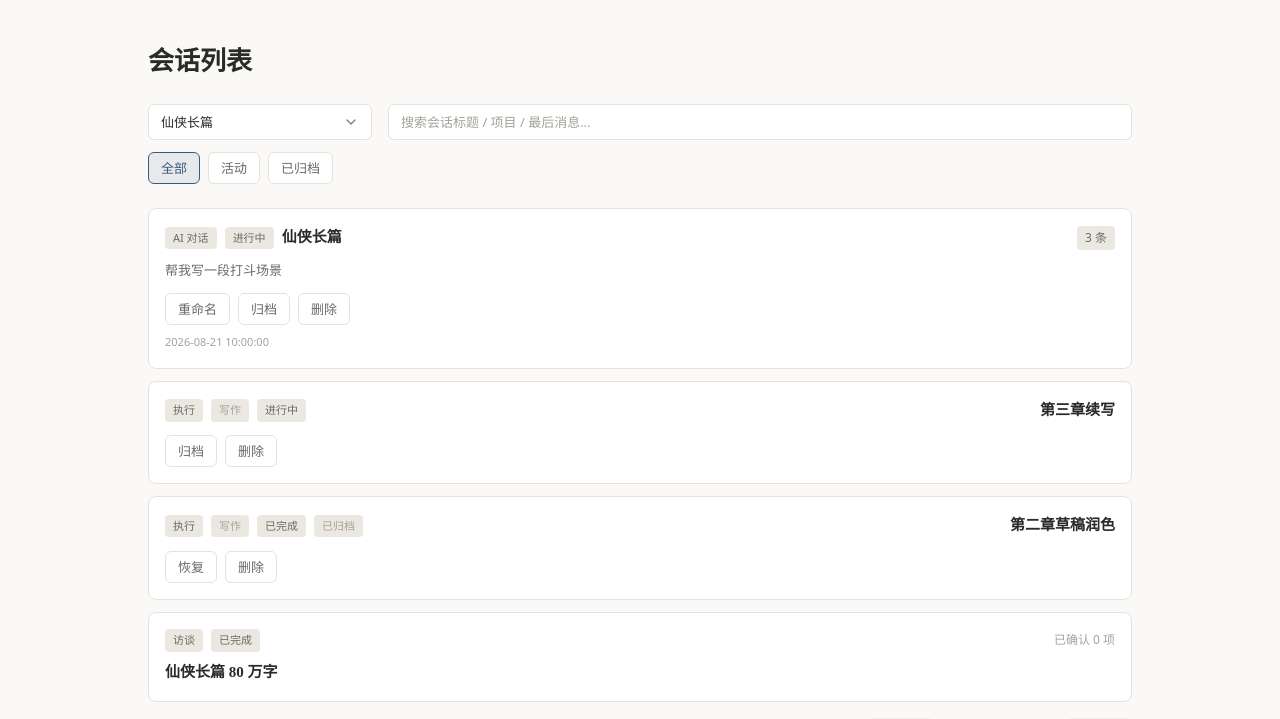
Scenario: 会话页 — 归档 / 恢复 / 删除（执行会话） › 删除：取消二次确认不删；确认后 deleteSession(id) → 行消失
Expected: the button with test id "session-title-ex-active-p1" is shown, [1040,398,1115,423]
Step 1. Click the button with test id "session-delete-ex-active-p1" → (251, 451), box [225,435,277,467]
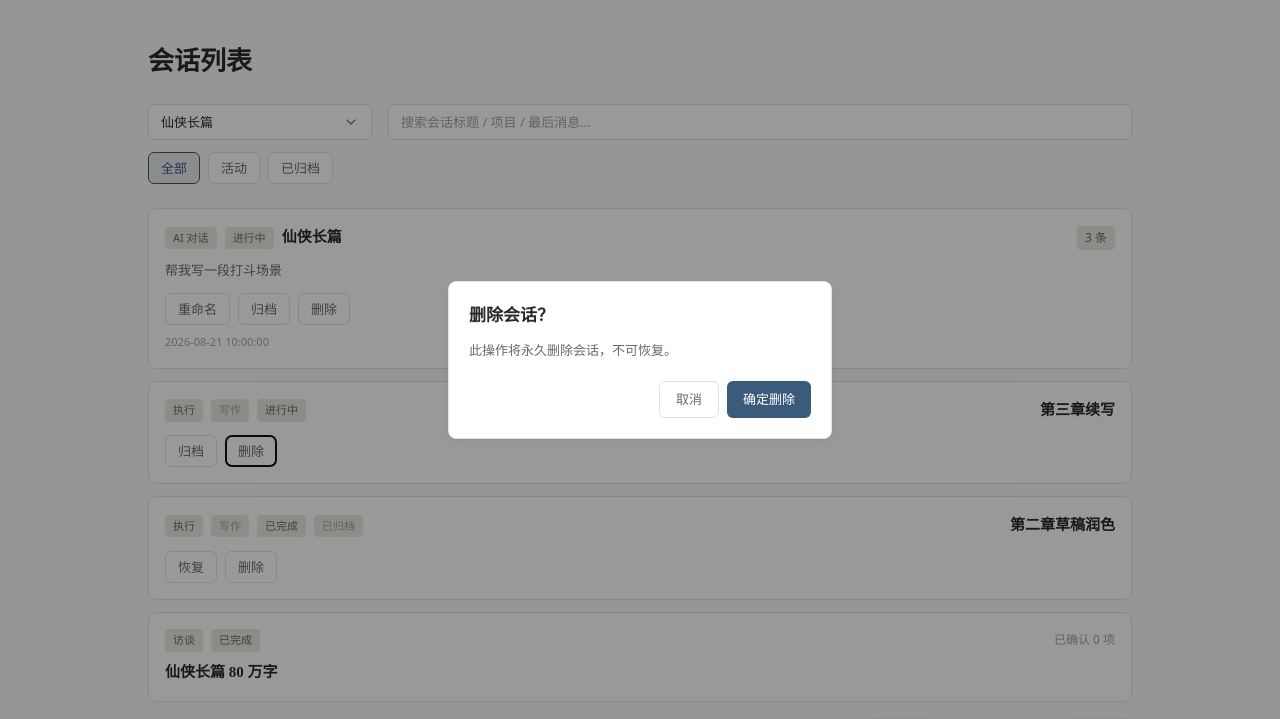
Step 2. Click the button with test id "session-delete-cancel" → (689, 399), box [659,381,719,418]
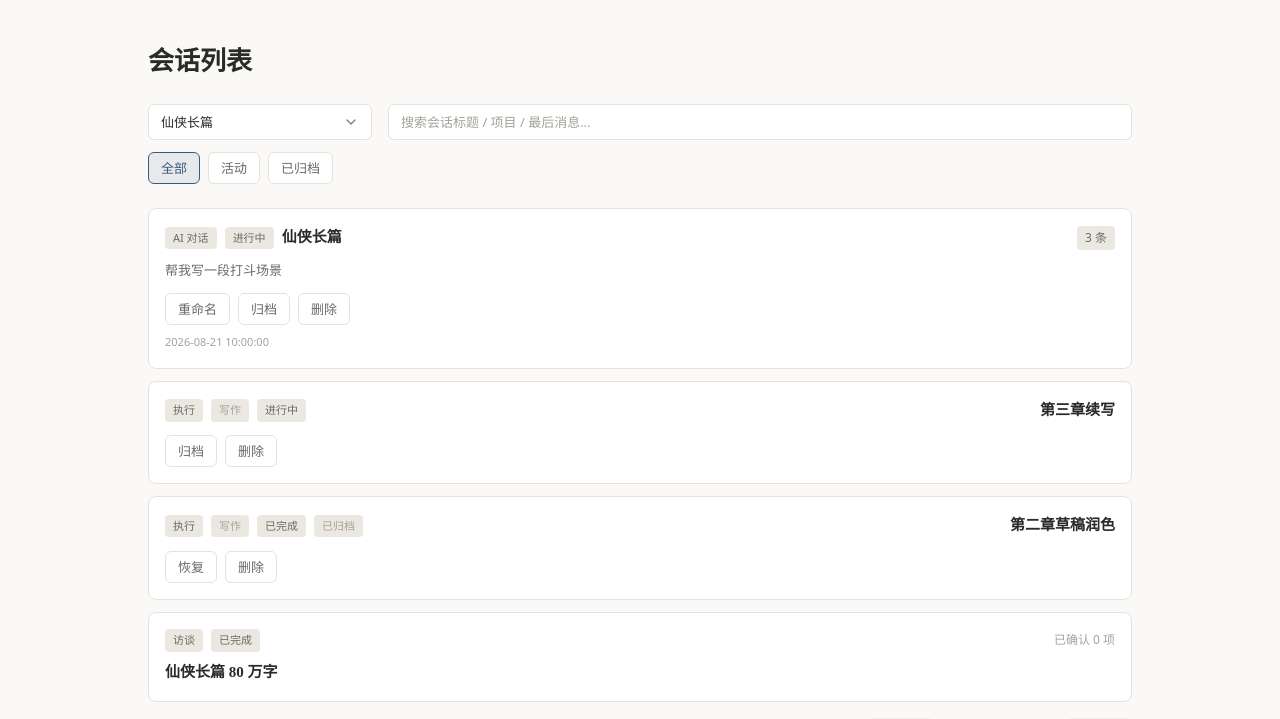
Expected: the button with test id "session-title-ex-active-p1" is shown, [1040,398,1115,423]
Step 3. Click the button with test id "session-delete-ex-active-p1" → (251, 451), box [225,435,277,467]
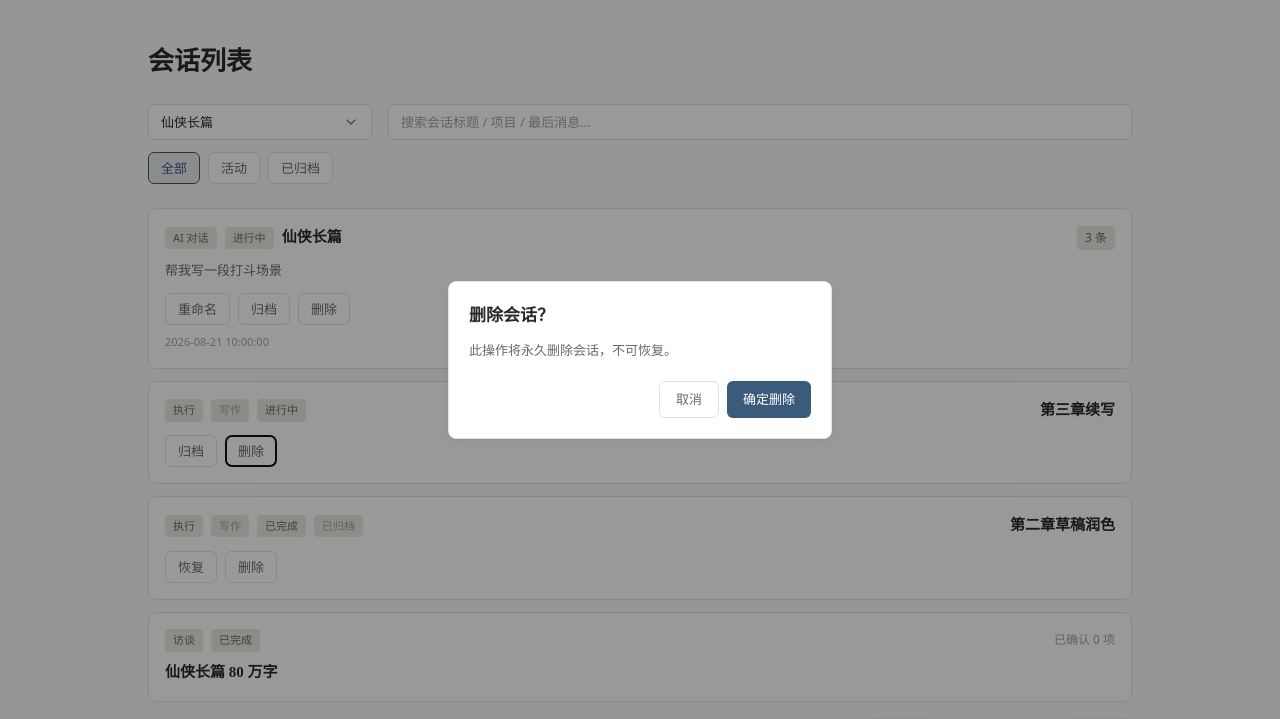
Step 4. Click the button with test id "session-delete-confirm" → (769, 399), box [727,381,811,418]
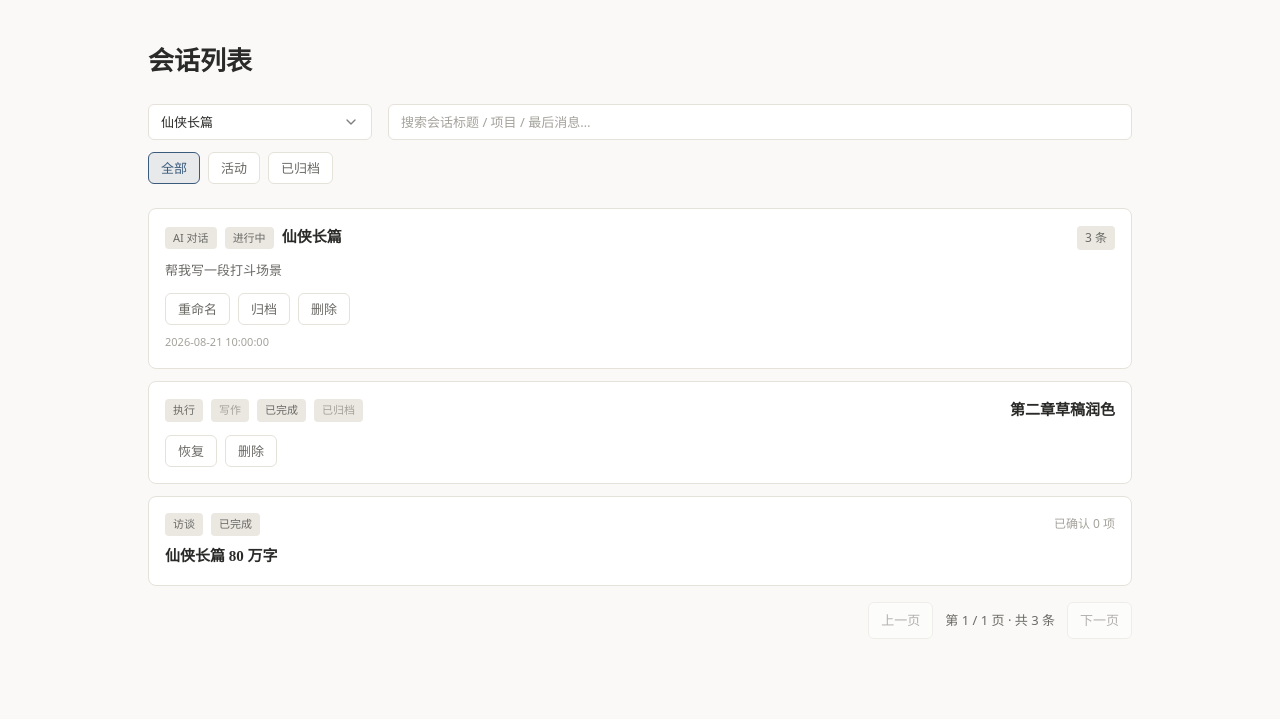
Result: the button with test id "session-title-ex-active-p1" is gone
